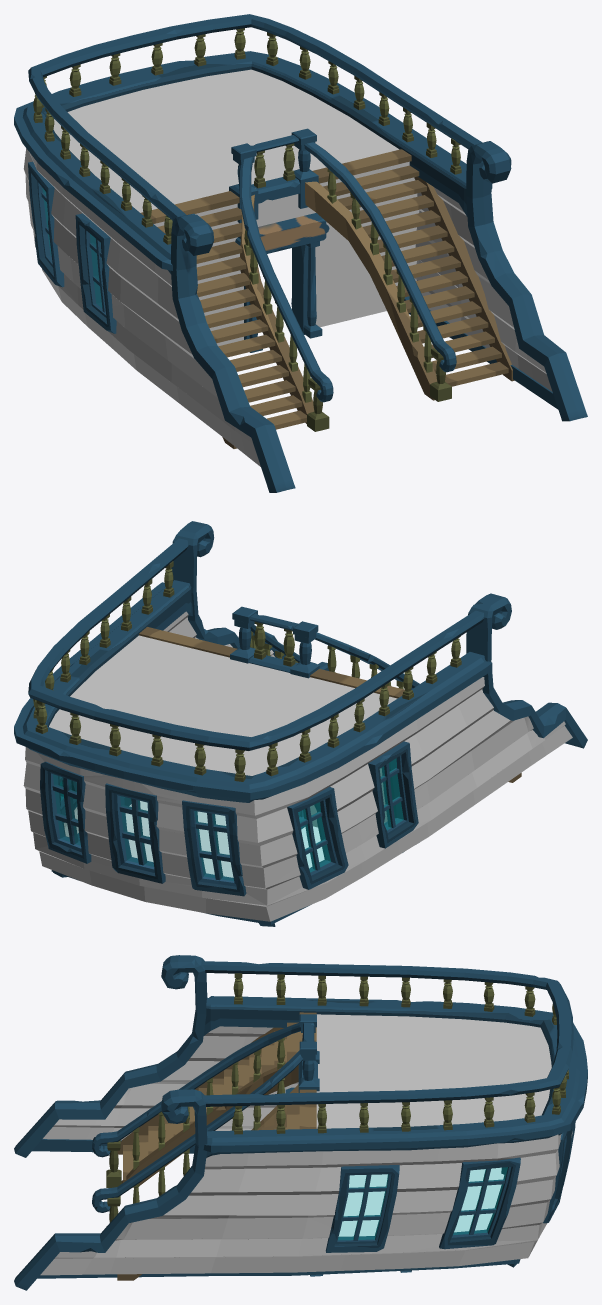
The model's file is SM_Veh_Ship_M_Back_03.fbx.
3 views of the same model, one above another, from view 1: azimuth 30°, elevation 25°; view 2: azimuth 150°, elevation 25°; view 3: azimuth 270°, elevation 25° (orthographic). The views are drawn at different scales.
Parts seen in each view (by area): view 1: SM_Veh_Ship_M_Back_03; view 2: SM_Veh_Ship_M_Back_03; view 3: SM_Veh_Ship_M_Back_03.
Part boxes in pixels (<box>): SM_Veh_Ship_M_Back_03: <box>14,14,587,492</box>; SM_Veh_Ship_M_Back_03: <box>14,521,587,926</box>; SM_Veh_Ship_M_Back_03: <box>14,955,587,1290</box>.
Bounding box in the file's own units: 704 × 426 × 1142.
